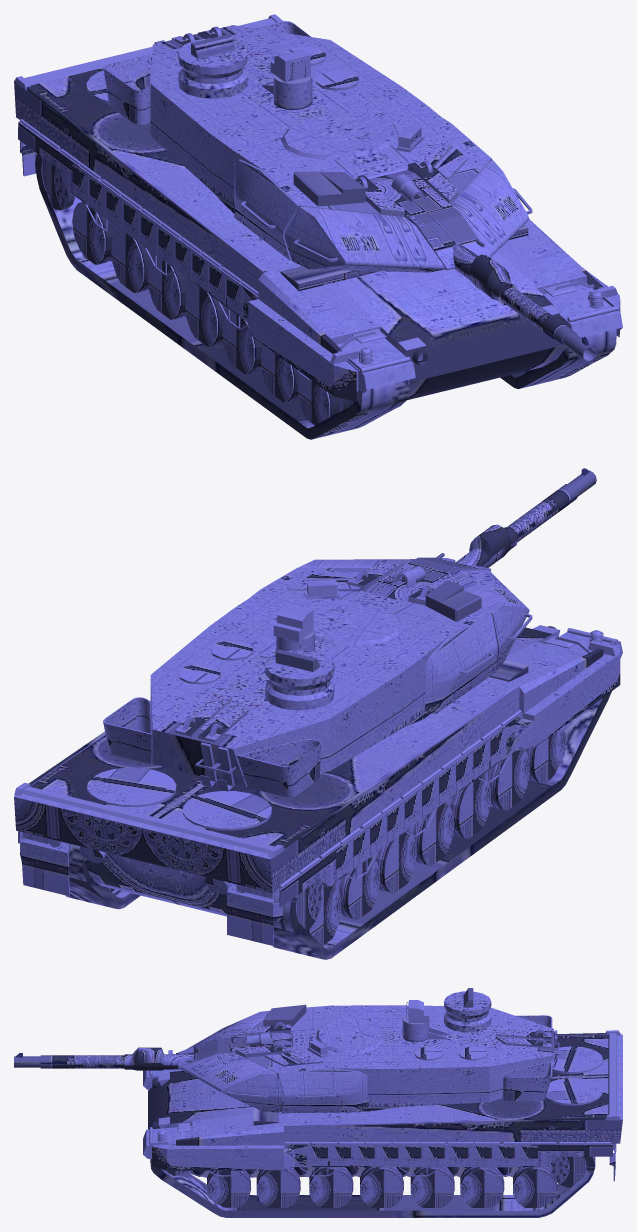
Rendered from Tank.glb.
The picture shows the model from 3 angles, top to bottom: view 1: azimuth 30°, elevation 25°; view 2: azimuth 150°, elevation 25°; view 3: azimuth 270°, elevation 25°; orthographic projection. The views are drawn at different scales.
Visible parts, largest first — view 1: Tank; view 2: Tank; view 3: Tank.
Boxes of the visible parts, <box> form: Tank: <box>14,14,622,439</box>; Tank: <box>14,468,622,959</box>; Tank: <box>14,988,622,1217</box>.
Bounding box in the file's own units: 19.88 × 16.68 × 53.84.
1 material, 1 textured.
